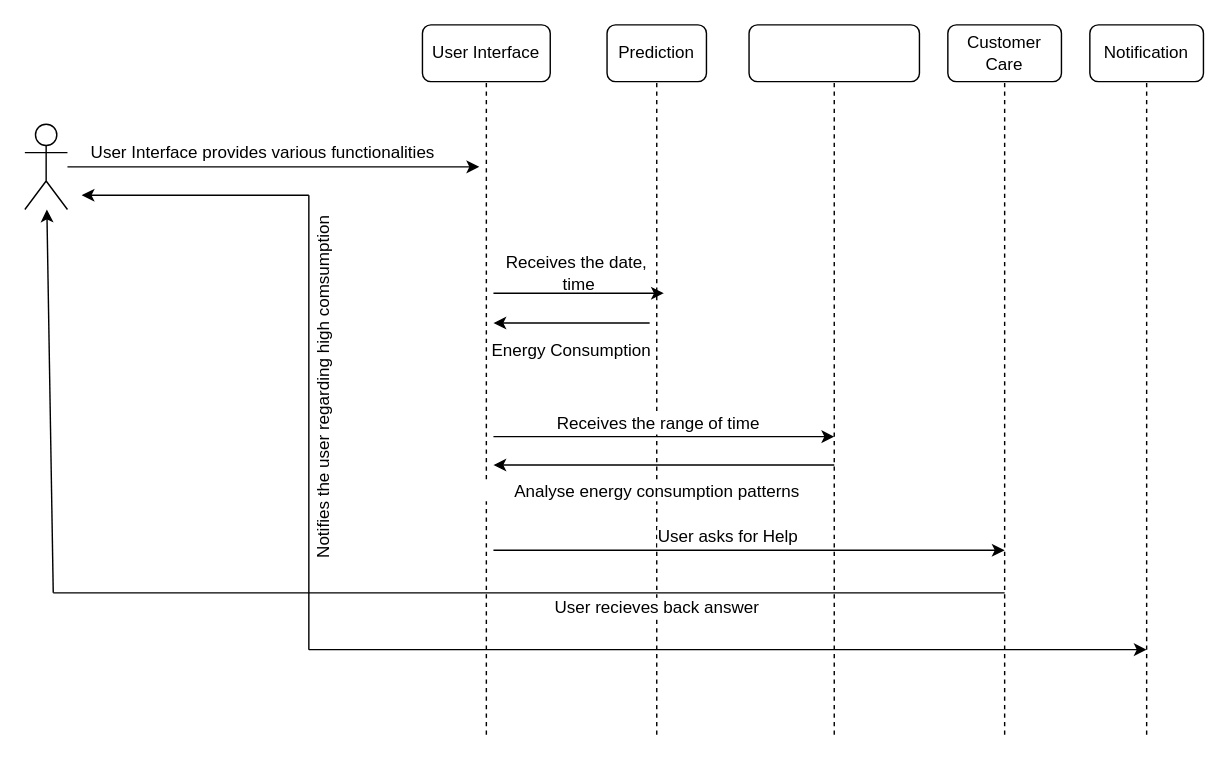
The diagram is 1228 pixels wide and 761 high, and some of its shapes have lost their labels. The shapes that lost their labels are listed below. From the top down, each one's centre as x and y in pixels, then its label:
At point (833, 52): "Graphical Analysis".
At point (45, 166): "Actor".
